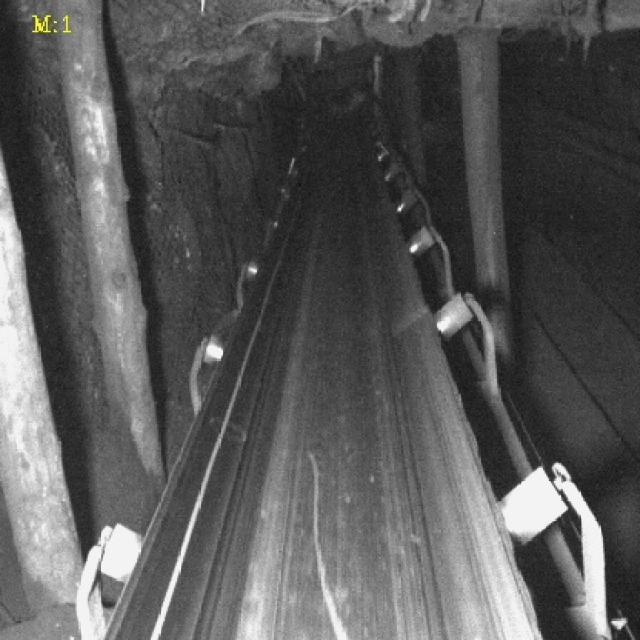bolt: (308, 446, 354, 640)
